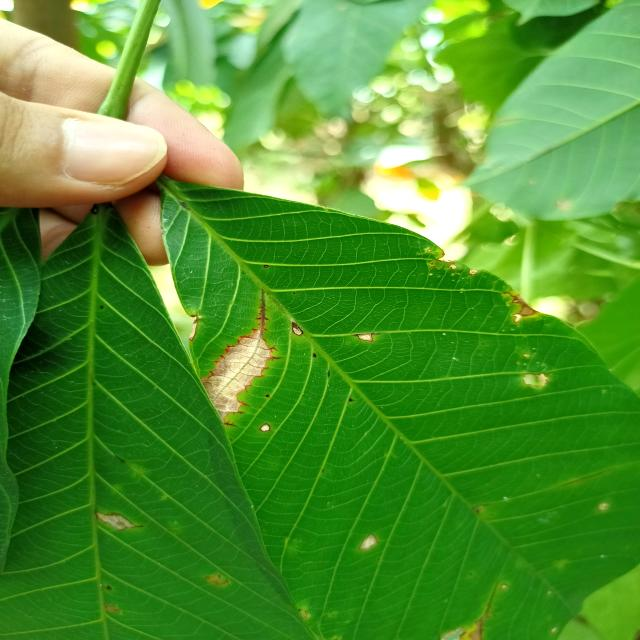Colletotrichum: (259, 423, 271, 432), (265, 394, 270, 398), (313, 353, 317, 358), (263, 265, 269, 268), (100, 305, 103, 309), (293, 292, 295, 294)
Corynespora: (250, 289, 271, 331), (224, 421, 238, 427), (271, 355, 283, 361)
Leaf-Blight: (201, 331, 271, 423), (96, 512, 134, 530), (360, 534, 378, 549), (188, 322, 196, 341), (358, 334, 372, 341)
